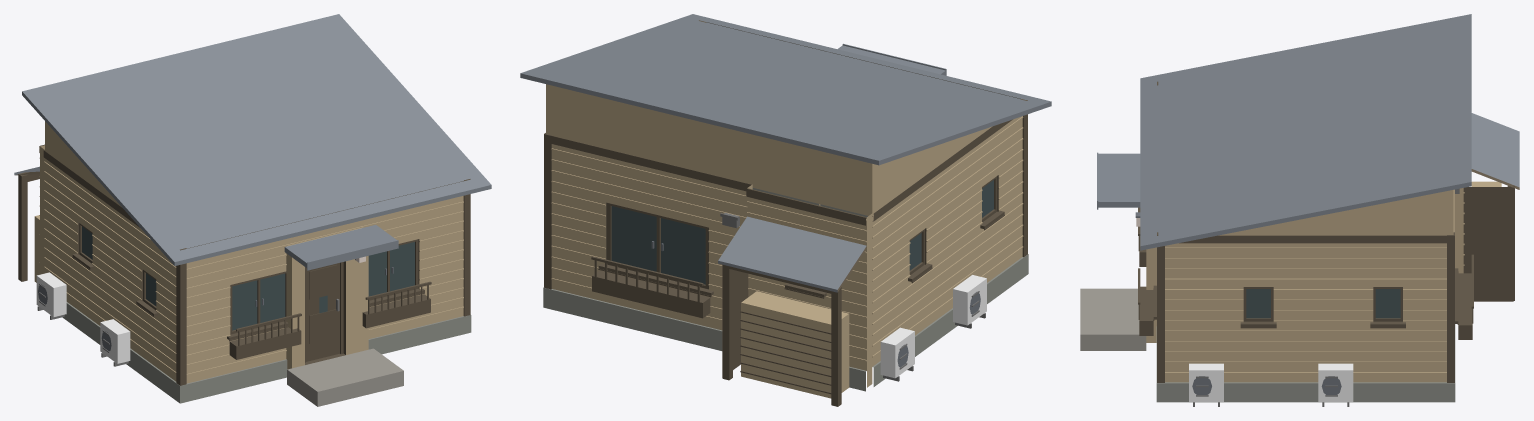
File: mashup-hut_cedar-top-prebuilt_close.fbx
3 views of the same model, side by side, from view 1: azimuth 30°, elevation 25°; view 2: azimuth 150°, elevation 25°; view 3: azimuth 270°, elevation 25° (orthographic). The views are drawn at different scales.
Visible parts, largest first — view 1: a2015.hut_cedar.close; view 2: a2015.hut_cedar.close; view 3: a2015.hut_cedar.close.
Boxes of the visible parts, x1,y1,x2,y2 form: a2015.hut_cedar.close: [14, 14, 491, 406]; a2015.hut_cedar.close: [520, 14, 1051, 406]; a2015.hut_cedar.close: [1080, 14, 1519, 406].
Size of the model in its own units: 6.64 by 4.21 by 7.3.
